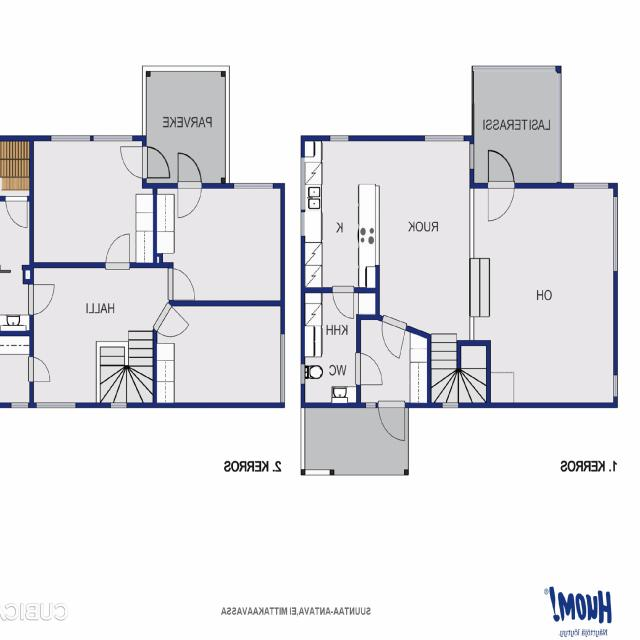door: (154, 303, 190, 350), (377, 316, 407, 359), (488, 182, 514, 223), (380, 402, 406, 442), (488, 148, 514, 188), (178, 152, 202, 188), (178, 183, 202, 219), (106, 232, 130, 268), (143, 147, 170, 178), (170, 268, 196, 300), (358, 352, 384, 383), (120, 147, 146, 178), (30, 285, 55, 314), (6, 196, 27, 229), (334, 287, 354, 320), (30, 357, 51, 381)
